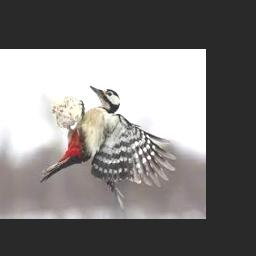Woodpecker: (39, 86, 176, 208)
